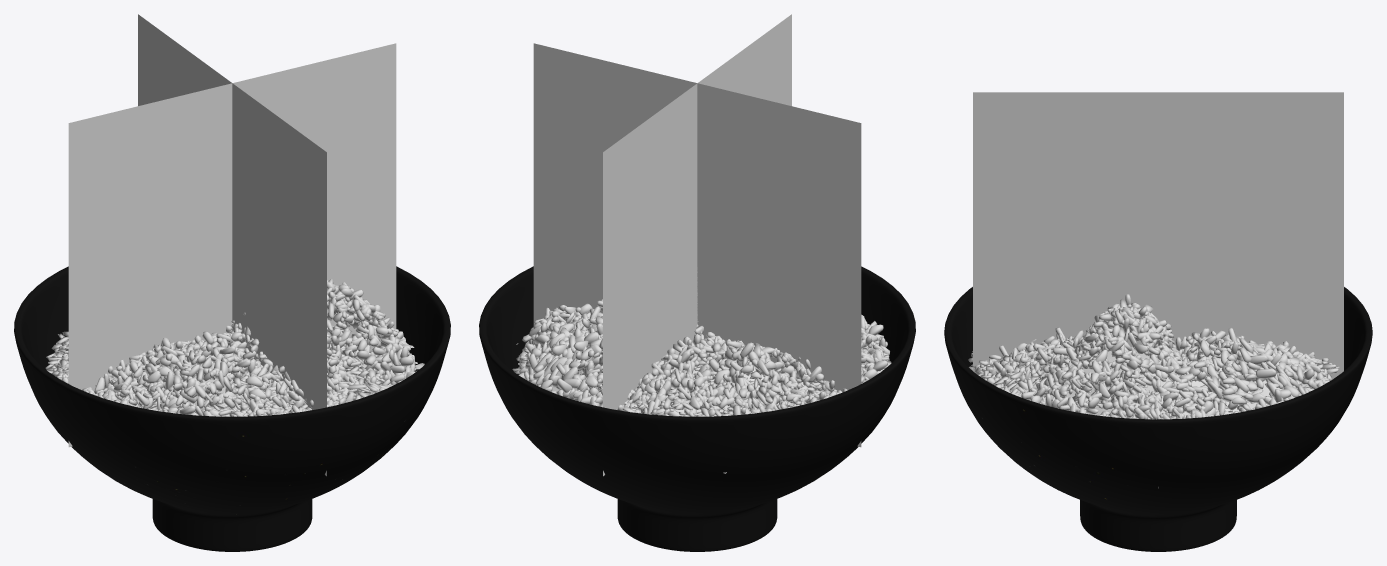
Rendered from お米改.fbx.
3 views of the same model, side by side, from view 1: azimuth 30°, elevation 25°; view 2: azimuth 150°, elevation 25°; view 3: azimuth 270°, elevation 25° (orthographic).
Visible parts, largest first — view 1: steam, model, model.001; view 2: steam, model, model.001; view 3: steam, model, model.001.
Boxes of the visible parts, x1,y1,x2,y2 form: steam: [68, 14, 396, 476]; model: [14, 266, 450, 551]; model.001: [45, 279, 424, 416]; steam: [533, 14, 861, 476]; model: [479, 266, 915, 551]; model.001: [512, 298, 891, 473]; steam: [973, 92, 1343, 488]; model: [944, 287, 1372, 551]; model.001: [968, 294, 1339, 419].
Bounding box in the file's own units: 165 × 181 × 165.
Materials: 3 (1 with a texture image).
